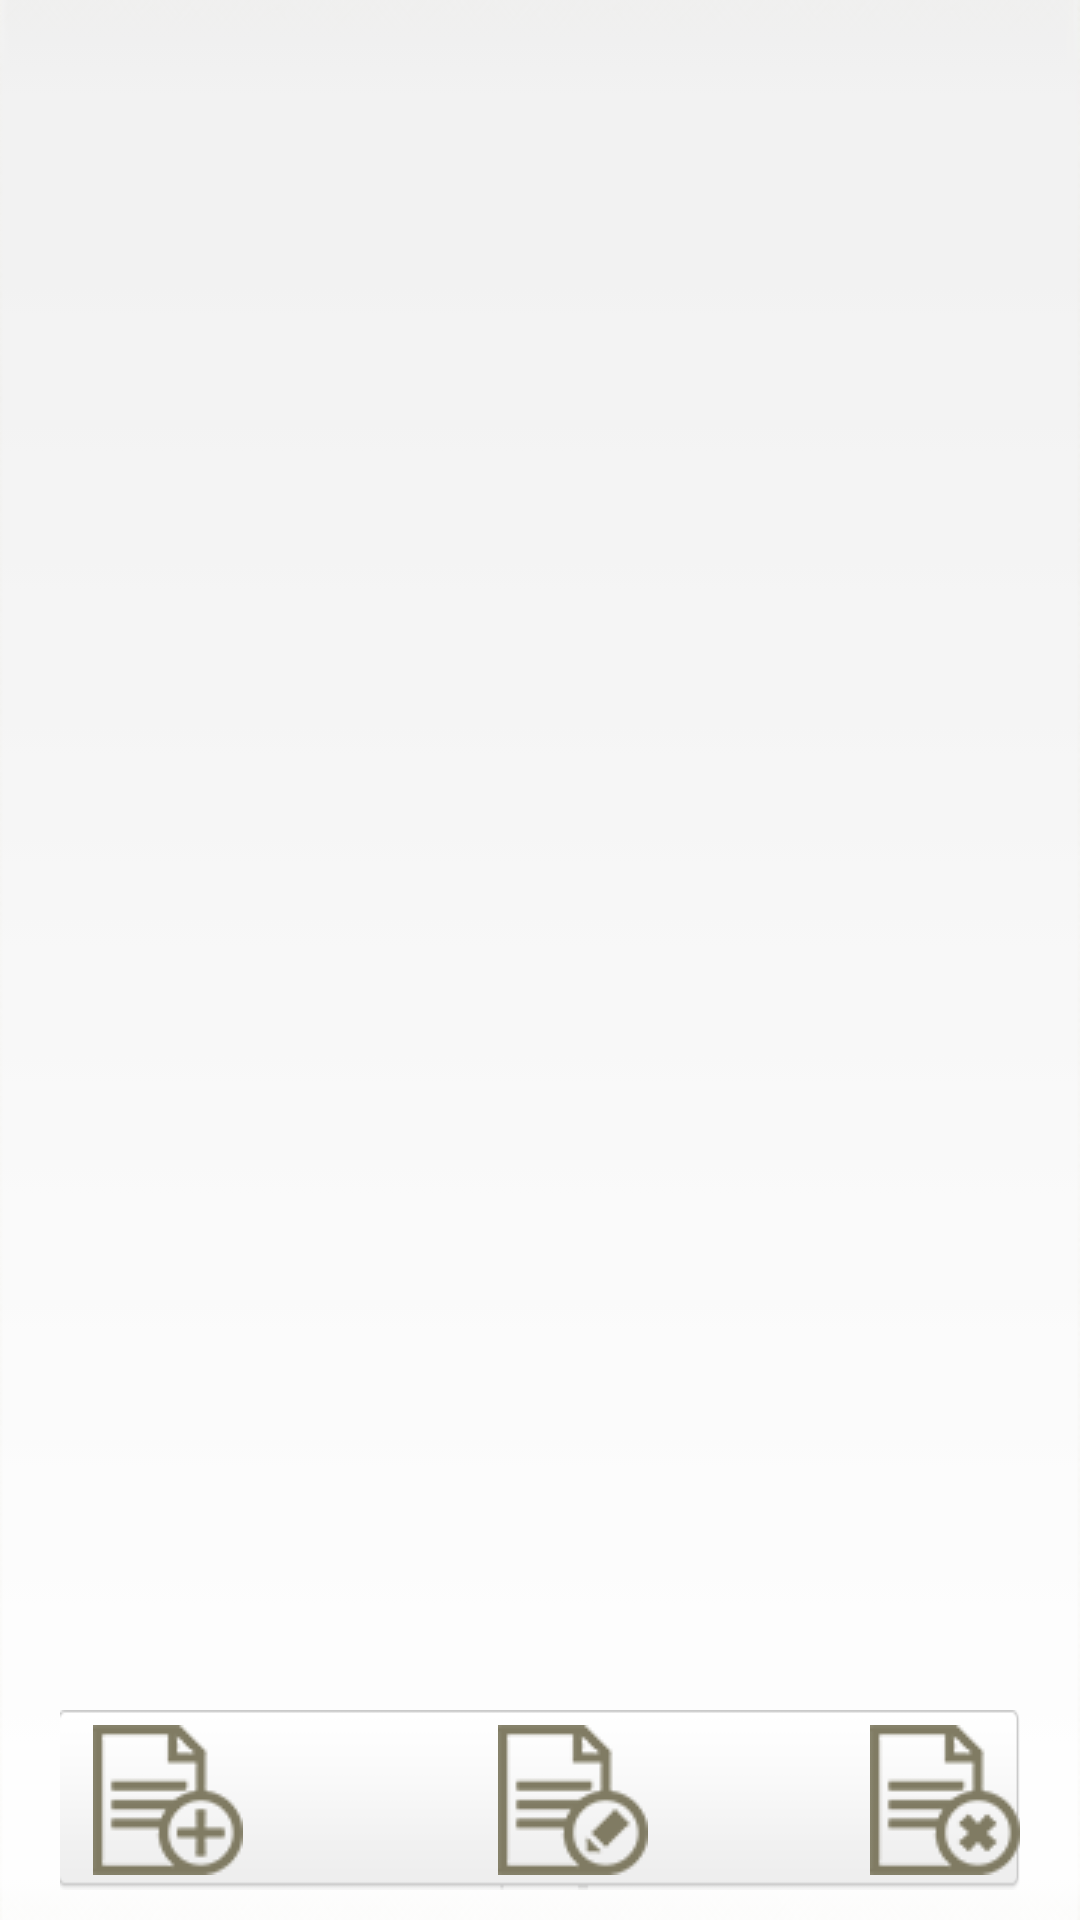

Named icons in this screenshot (1080w x 1920h) and their bounding boxes, (x1, y1, x2, y2):
add: (93, 1725, 243, 1875)
delete: (870, 1725, 1020, 1875)
edit: (498, 1725, 648, 1875)
